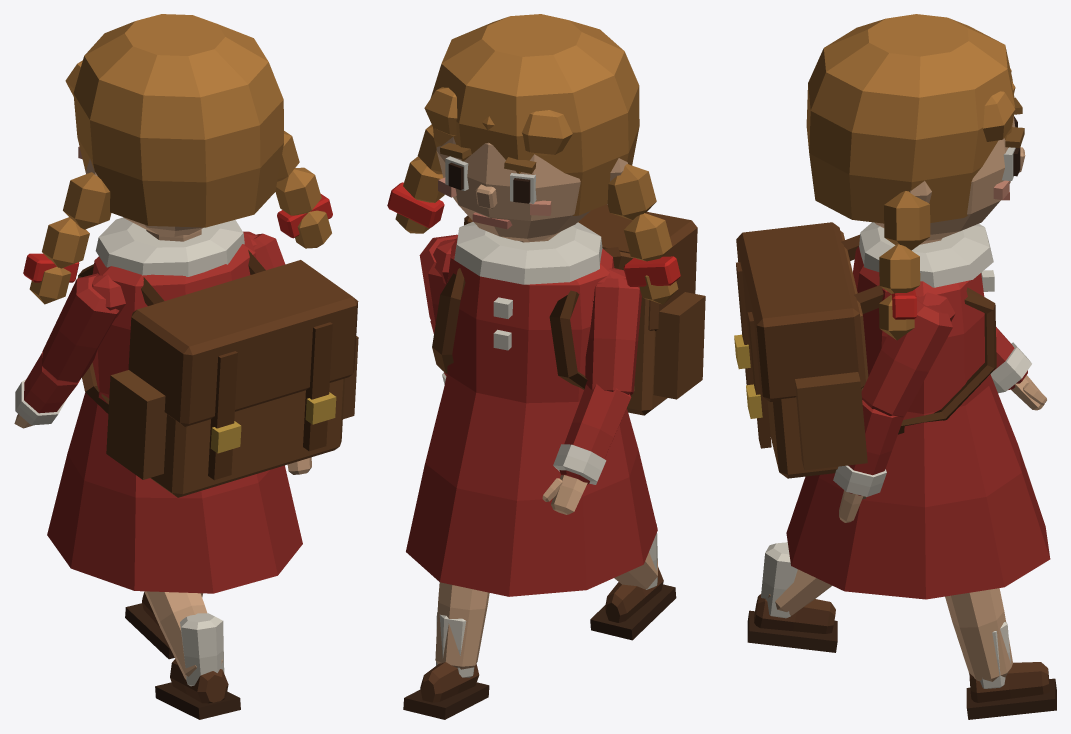
Rendered from chr_leni_bag_w2.glb.
The picture shows the model from 3 angles, left to right: view 1: azimuth 30°, elevation 25°; view 2: azimuth 150°, elevation 25°; view 3: azimuth 270°, elevation 25°; orthographic projection.
Parts seen in each view (by area): view 1: chr_leni_bag_w2; view 2: chr_leni_bag_w2; view 3: chr_leni_bag_w2.
Part boxes in pixels (left/top/right/bottom): chr_leni_bag_w2: left=14, top=14, right=358, bottom=719; chr_leni_bag_w2: left=387, top=14, right=705, bottom=719; chr_leni_bag_w2: left=734, top=14, right=1056, bottom=719.
Bounding box in the file's own units: 0.4973 × 1.05 × 0.4689.
